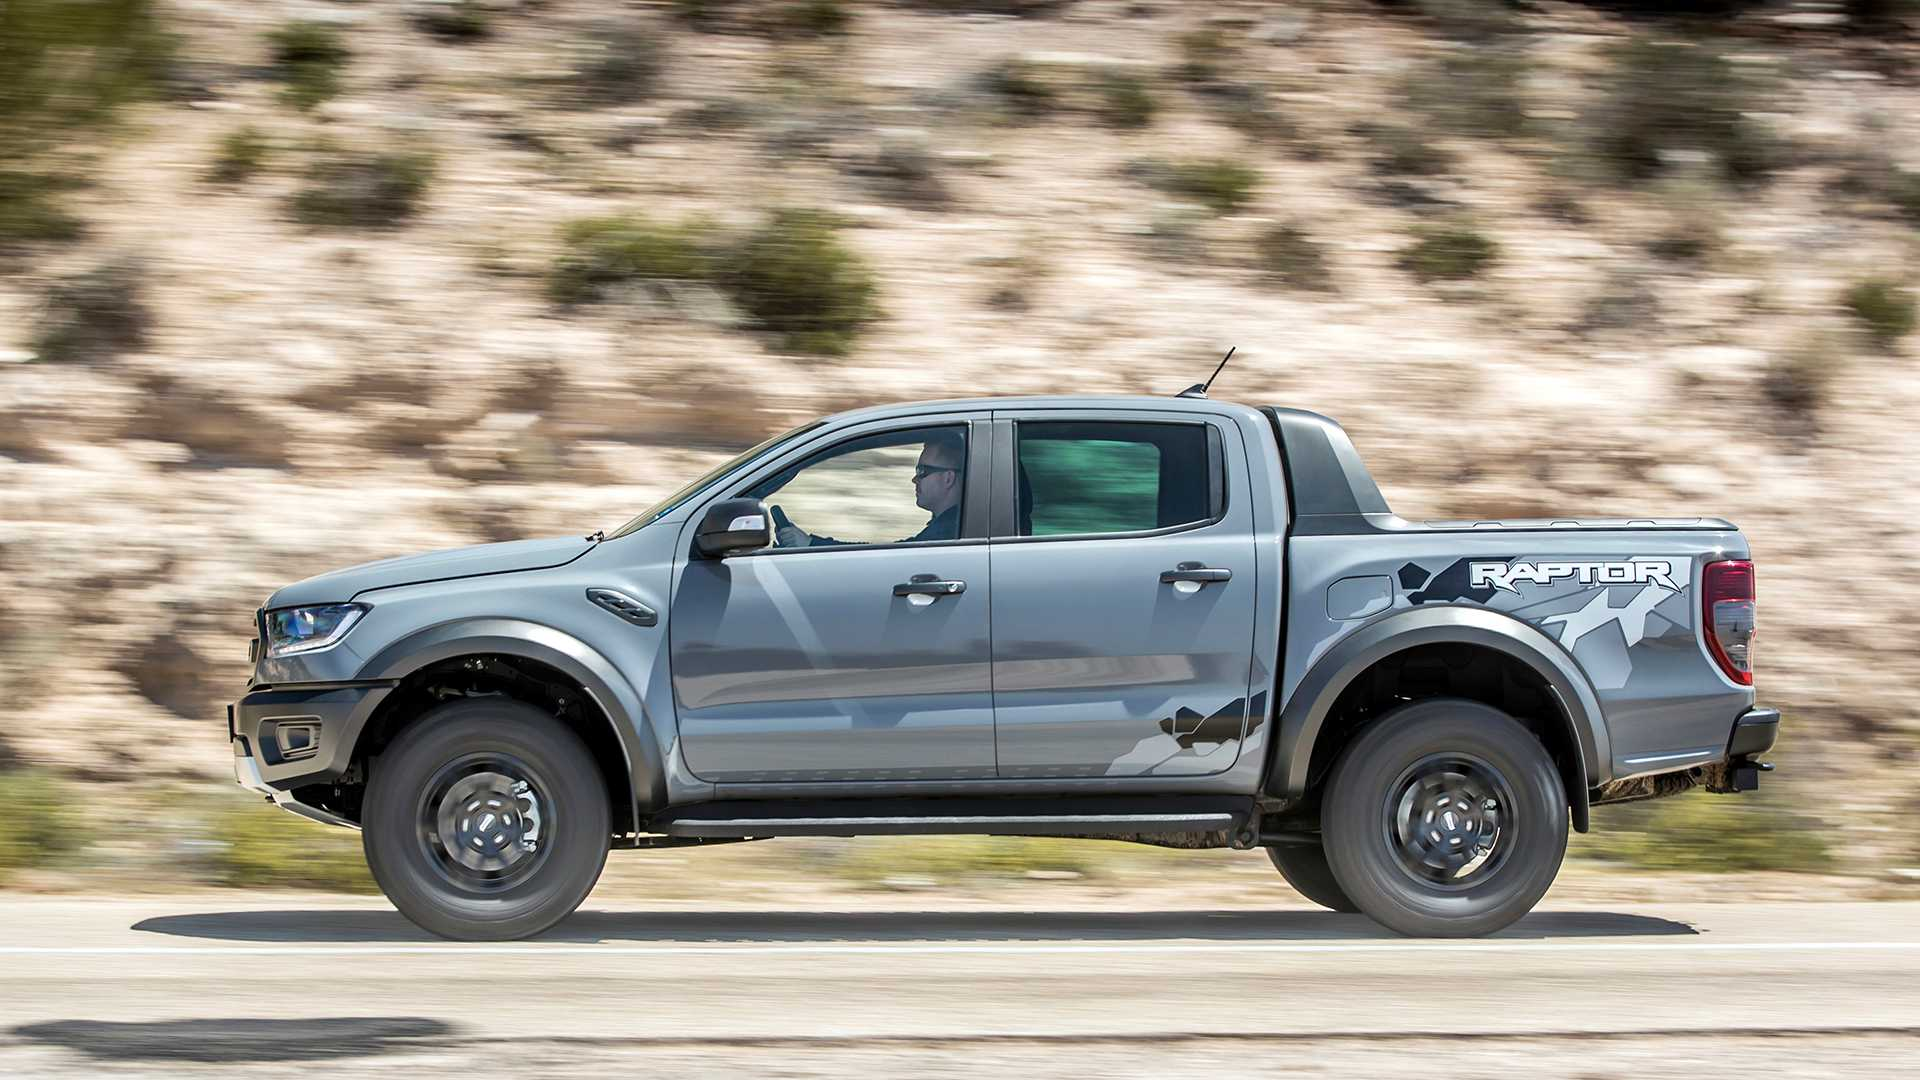Vehicle: (223, 372, 1789, 955)
